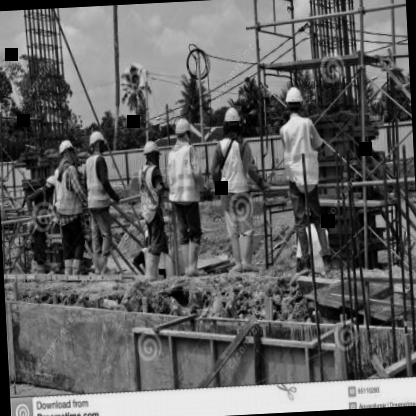helmet: (284, 86, 306, 121), (86, 128, 110, 157), (140, 136, 160, 170), (56, 138, 78, 168), (221, 105, 242, 136), (174, 115, 192, 144), (42, 170, 60, 194)
